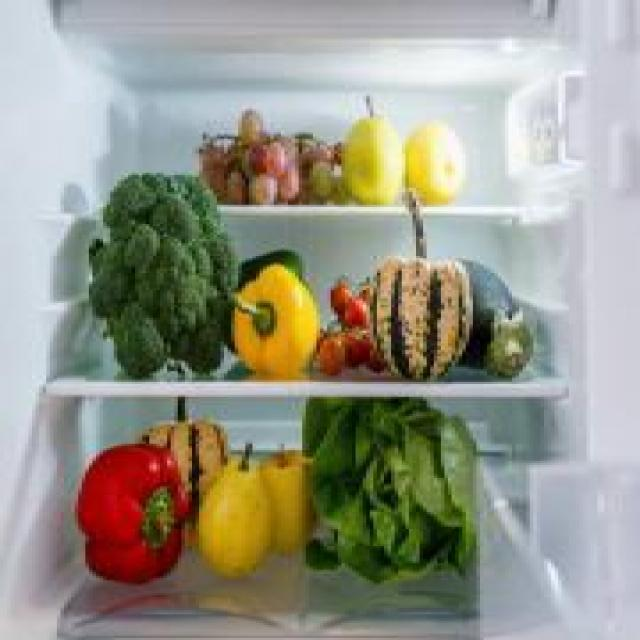apple: (258, 434, 318, 558), (339, 92, 404, 205)
bell_pepper: (73, 442, 194, 591), (228, 254, 324, 382)
broccoli: (85, 162, 238, 380)
lemon: (402, 114, 473, 206)
pear: (198, 439, 276, 586)
salad: (297, 390, 485, 596)
tomato: (318, 332, 347, 378), (341, 291, 370, 332), (329, 275, 354, 316), (345, 322, 366, 369)
